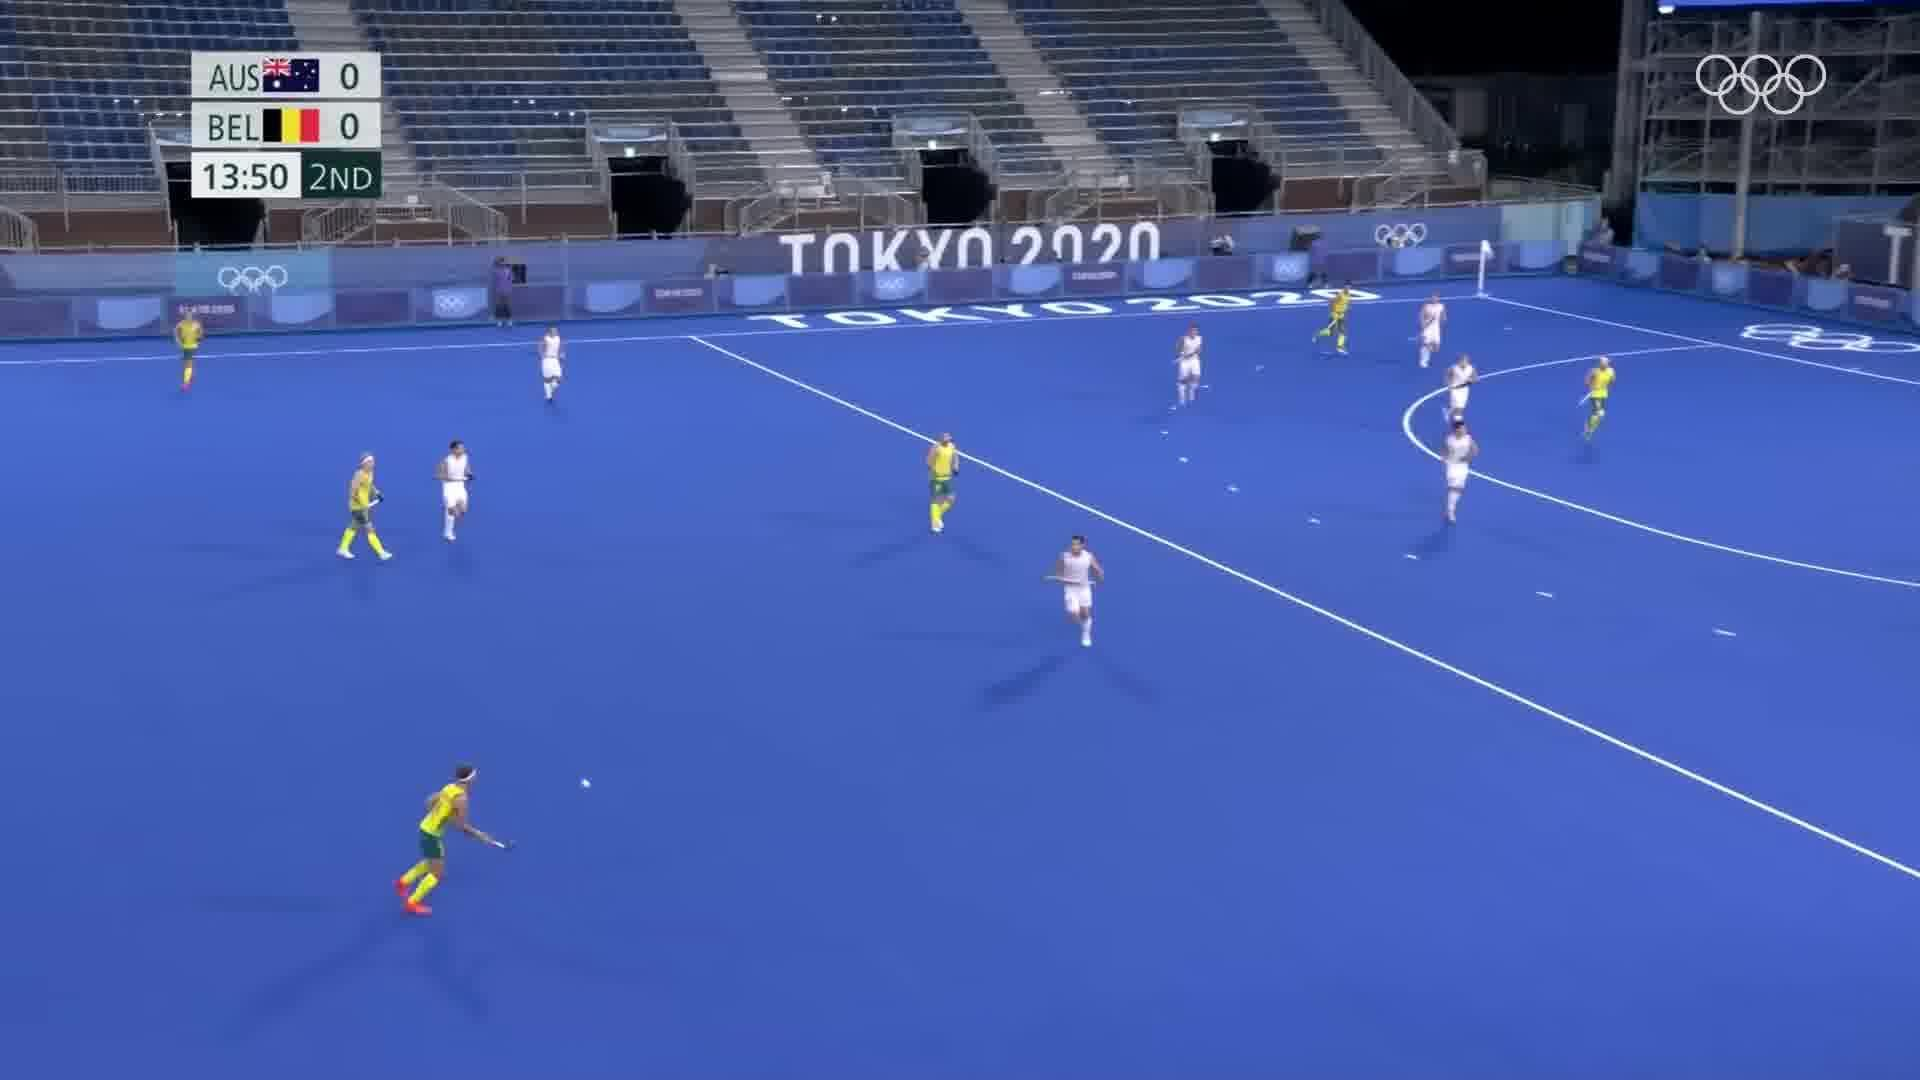ball: (574, 768, 595, 799)
